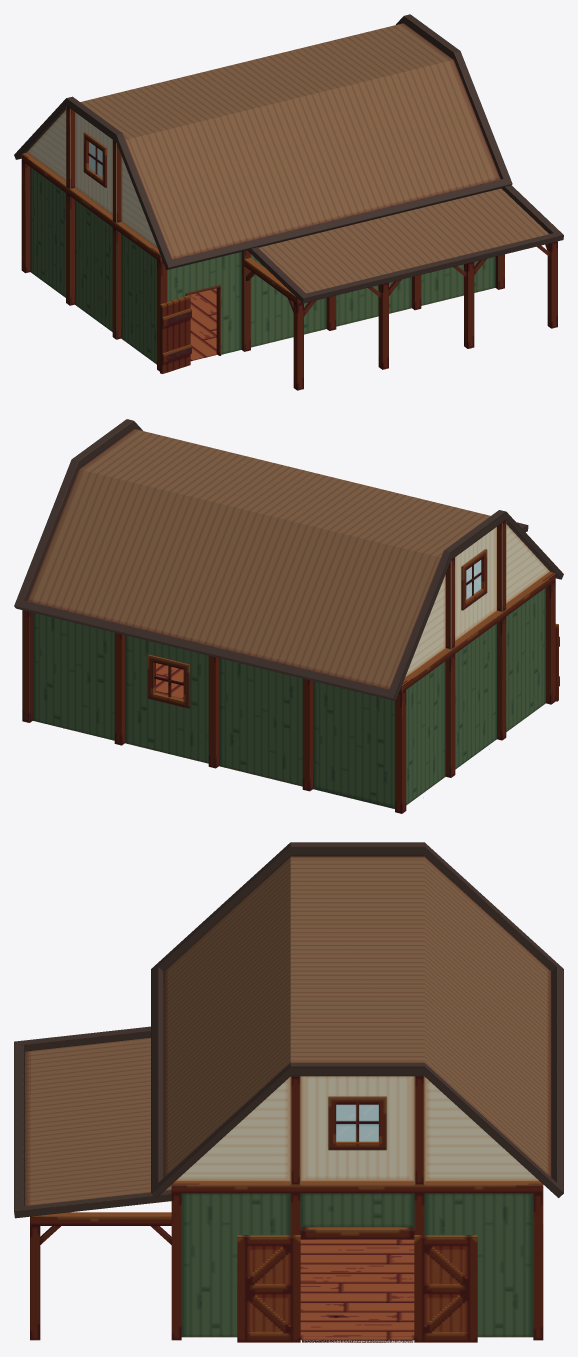
Rendered from StorageHouse.fbx.
3 views of the same model, one above another, from view 1: azimuth 30°, elevation 25°; view 2: azimuth 150°, elevation 25°; view 3: azimuth 270°, elevation 25° (orthographic). The views are drawn at different scales.
Parts seen in each view (by area): view 1: Plane.004; view 2: Plane.004; view 3: Plane.004.
Part boxes in pixels (box(x1,y1,x2,y2)): Plane.004: box(14, 14, 563, 390); Plane.004: box(14, 419, 563, 813); Plane.004: box(14, 842, 563, 1342).
Bounding box in the file's own units: 2128 × 1204 × 2175.
